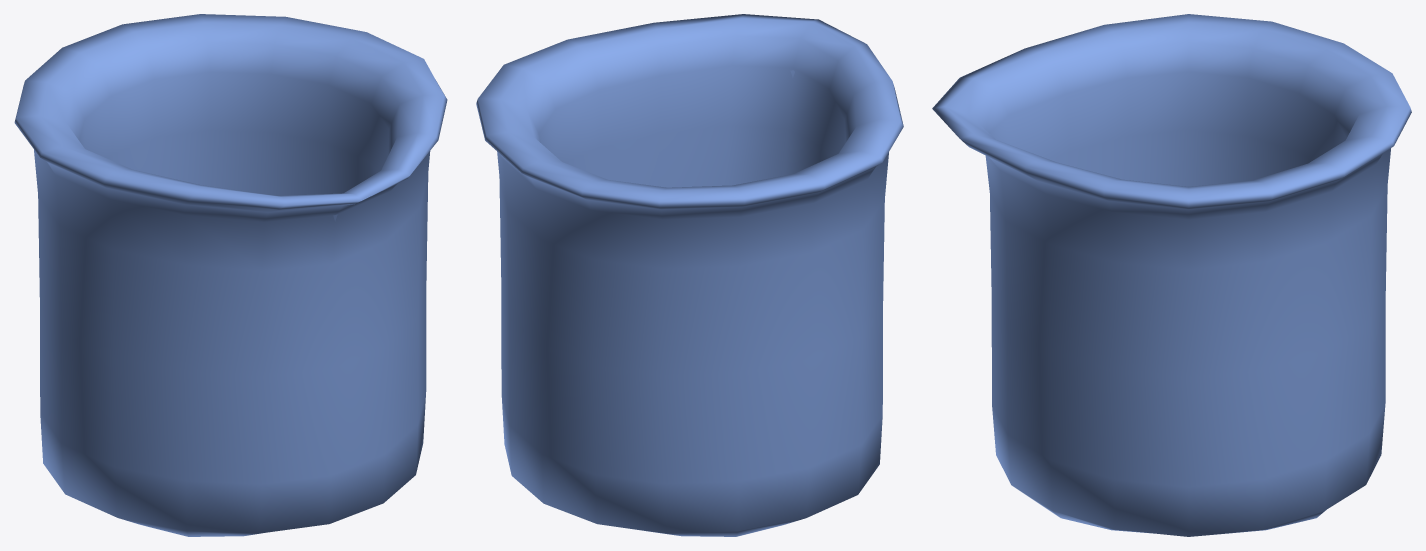
File: GAMEJAMHERO - Prop(Beaker).fbx
The picture shows the model from 3 angles, left to right: view 1: azimuth 30°, elevation 25°; view 2: azimuth 150°, elevation 25°; view 3: azimuth 270°, elevation 25°; orthographic projection.
Visible parts, largest first — view 1: Beaker; view 2: Beaker; view 3: Beaker.
Part boxes in pixels (box(x1,y1,x2,y2)): Beaker: box(14, 14, 447, 536); Beaker: box(476, 14, 903, 536); Beaker: box(932, 14, 1411, 536).
Size of the model in its own units: 39.02 by 35.05 by 42.03.
